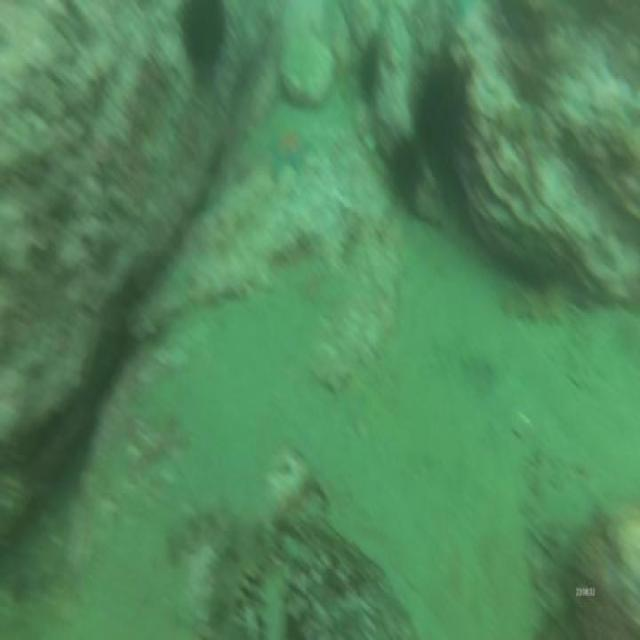echinus: (410, 41, 473, 150), (175, 0, 235, 84), (386, 128, 426, 212)
starfish: (268, 122, 313, 180)
